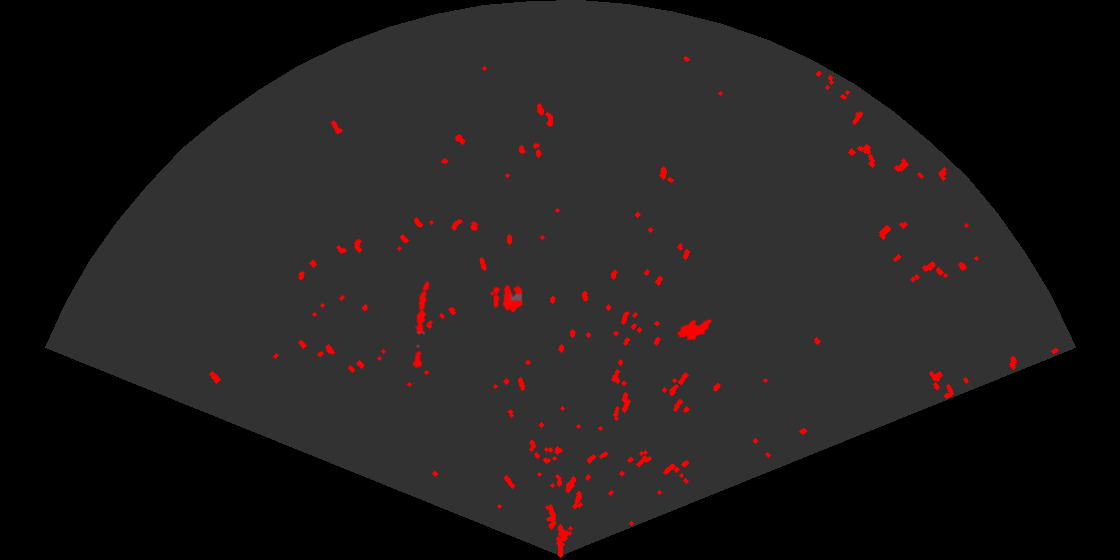AUV: (675, 317, 714, 342)
ball: (492, 283, 524, 314)
chain: (410, 279, 431, 368)
